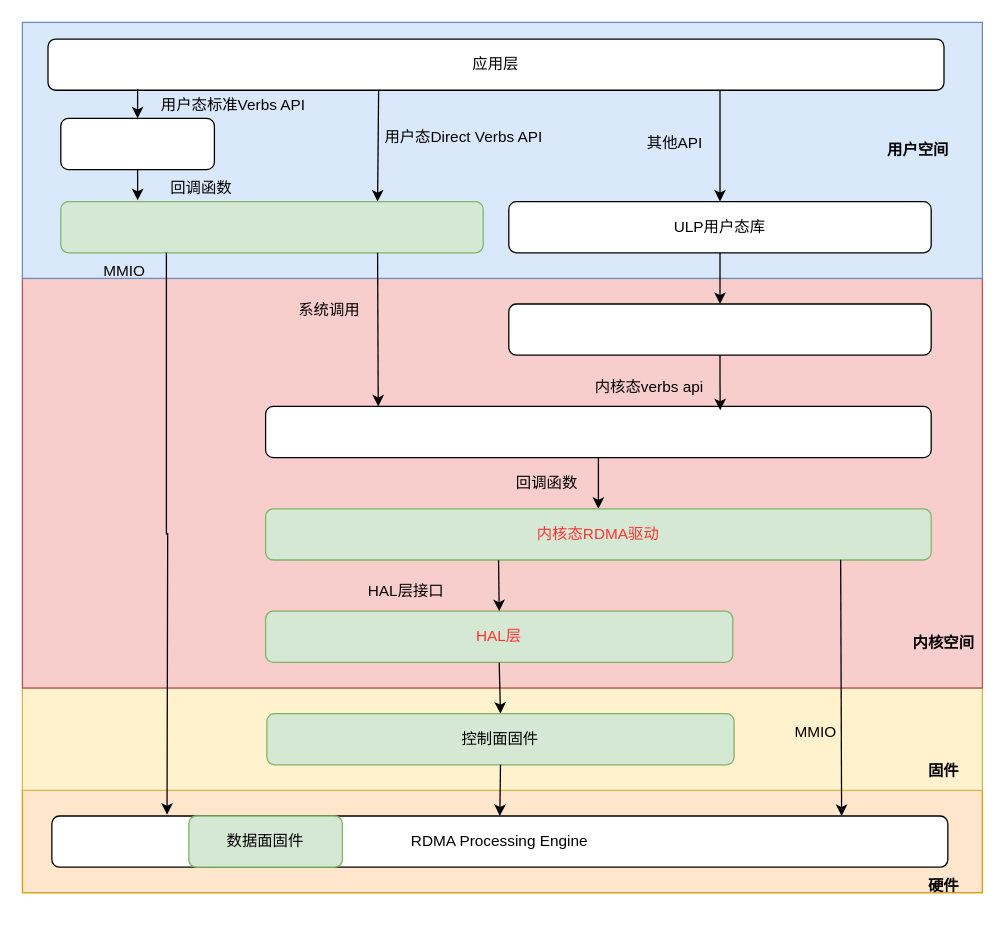
Image size: 1005x928. Some labels were removed from this diagram. The shapes that lost their labels are listed below. From the top down, each one's centre as x and y in pixels, then its label:
At (137,143): "用户态RDMA框架".
At (271,226): "用户态RDMA驱动".
At (719,329): "ULP".
At (597,431): "内核态RDMA框架".
